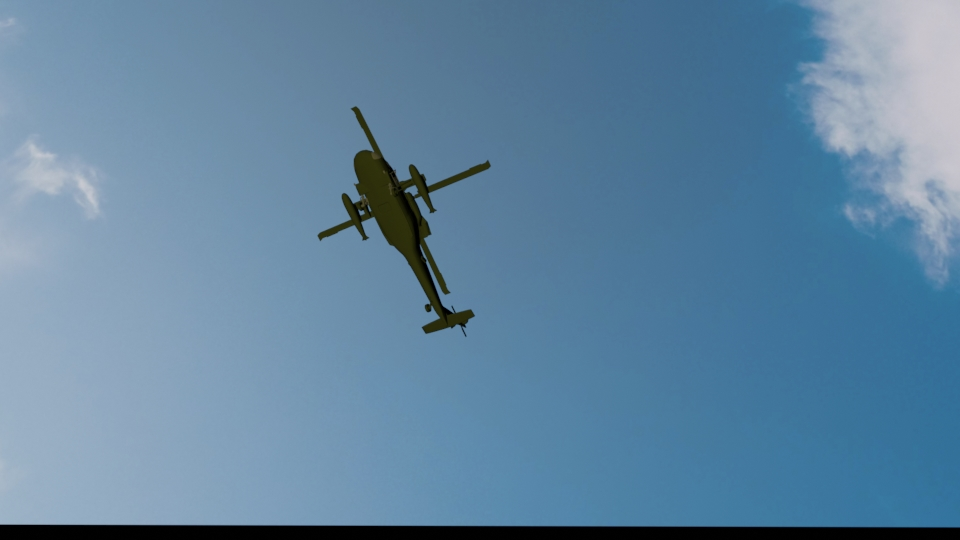heli: (314, 103, 491, 335)
